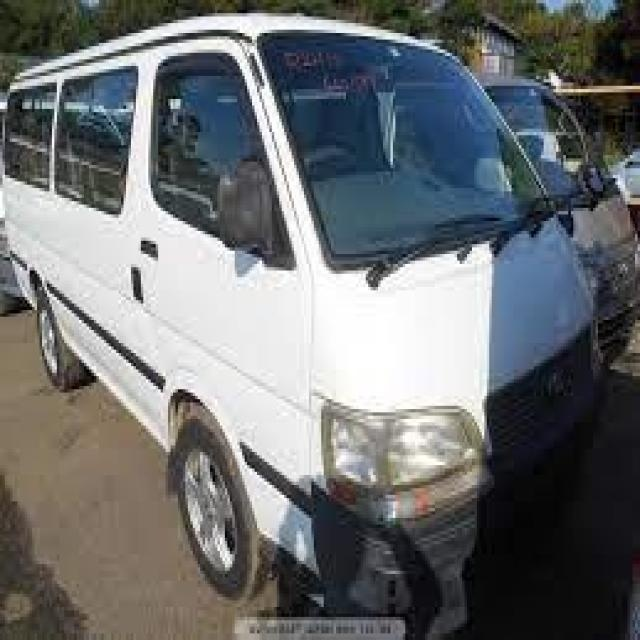Van: (5, 17, 610, 570)
